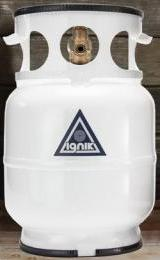cylinder: (1, 1, 160, 260)
